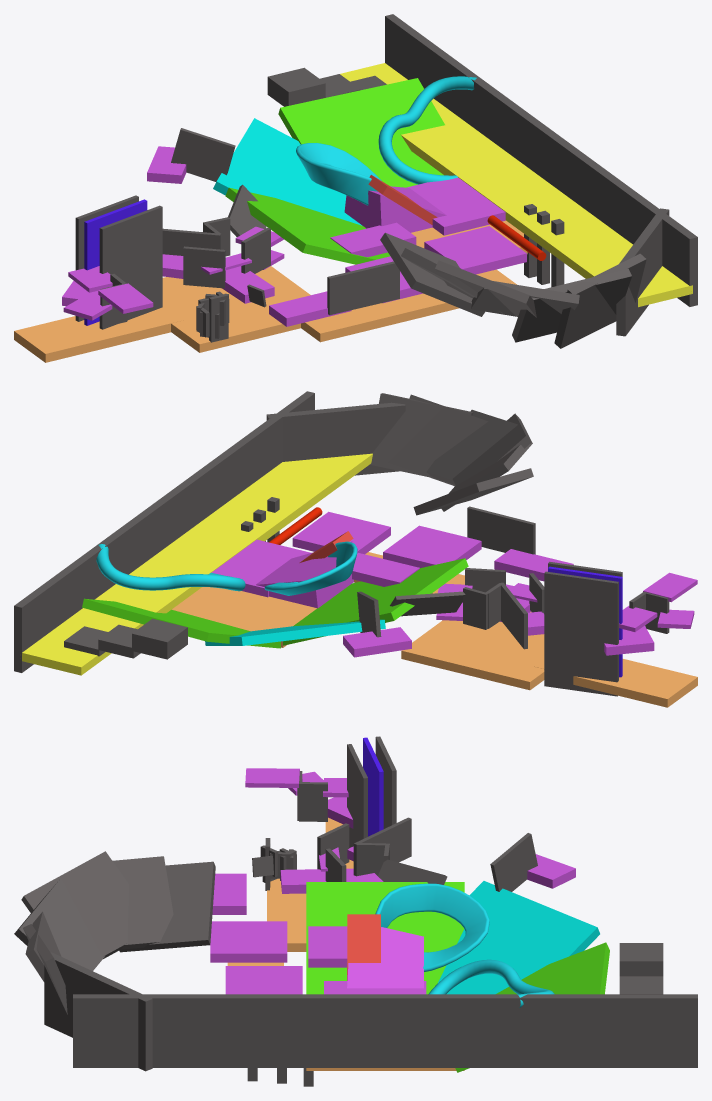
File: World.glb
The picture shows the model from 3 angles, top to bottom: view 1: azimuth 30°, elevation 25°; view 2: azimuth 150°, elevation 25°; view 3: azimuth 270°, elevation 25°; orthographic projection. The views are drawn at different scales.
Visible parts, largest first — view 1: Cube.013, Cube.006, Cube.004, Cube.005, Cube.039, Cube.041, Cube.044, Cube.003, Cube.040, Cube.001, Cube.025, Cube.018 (+33 smaller); view 2: Cube.006, Cube.013, Cube.045, Cube.039, Cube.017, Cube.003, Cube.002, Cube.044, Cube.026, Cube.019, Cube.004, Cube.010 (+31 smaller); view 3: Cube.013, Cube.005, Cube.003, Cube.032, BézierCurve.002, Cube.034, Cube.017, Cube.033, Cube.014, Cube.019, Cube.031, Cube.004 (+25 smaller).
Boxes of the visible parts, box(x1,y1,x2,y2) form: Cube.013: box(385, 14, 697, 306); Cube.006: box(340, 63, 692, 307); Cube.004: box(278, 78, 444, 187); Cube.005: box(213, 118, 362, 225); Cube.039: box(162, 266, 310, 352); Cube.041: box(99, 205, 162, 329); Cube.044: box(14, 305, 183, 362); Cube.003: box(225, 187, 390, 264); Cube.040: box(301, 269, 517, 342); Cube.001: box(407, 177, 505, 235); Cube.025: box(554, 253, 646, 348); Cube.018: box(424, 226, 526, 274); Cube.006: box(22, 453, 372, 675); Cube.013: box(14, 391, 314, 672); Cube.045: box(544, 571, 618, 696); Cube.039: box(401, 611, 544, 690); Cube.017: box(266, 402, 405, 475); Cube.003: box(283, 558, 468, 645); Cube.002: box(172, 587, 316, 647); Cube.044: box(534, 659, 697, 707); Cube.026: box(388, 394, 488, 486); Cube.019: box(383, 525, 481, 568); Cube.004: box(82, 598, 280, 648); Cube.010: box(467, 506, 535, 554); Cube.013: box(73, 994, 697, 1067); Cube.005: box(438, 881, 599, 994); Cube.003: box(306, 882, 464, 994); Cube.032: box(21, 851, 128, 958); BézierCurve.002: box(375, 883, 489, 971); Cube.034: box(119, 861, 215, 952); Cube.017: box(44, 952, 152, 1071); Cube.033: box(112, 856, 173, 949); Cube.014: box(347, 927, 423, 988); Cube.019: box(210, 921, 287, 962); Cube.031: box(14, 878, 105, 970); Cube.004: box(455, 942, 609, 1072).
Size of the model in its own units: 130 by 31.21 by 140.
